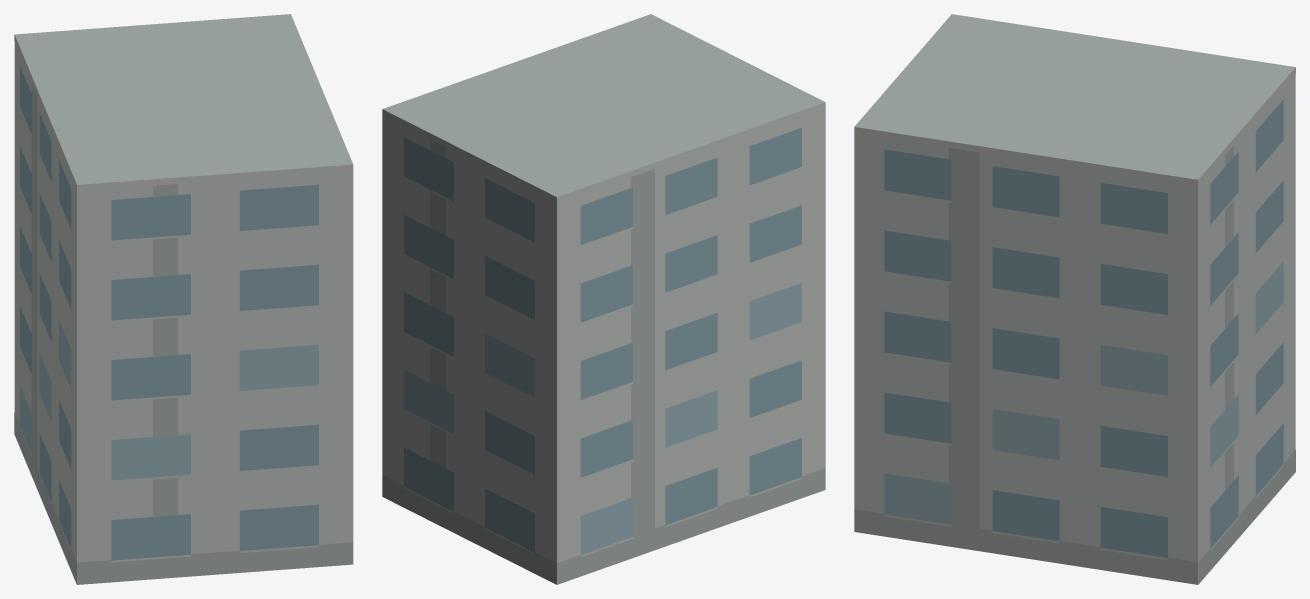
The model's file is residential-6640880c-2f31-4191-9aa5-19bf270faa93.glb.
The picture shows the model from 3 angles, left to right: view 1: azimuth 30°, elevation 25°; view 2: azimuth 150°, elevation 25°; view 3: azimuth 270°, elevation 25°; orthographic projection. The views are drawn at different scales.
Parts seen in each view (by area): view 1: residential-6640880c-2f31-4191-9aa5-19bf270faa93.tmp; view 2: residential-6640880c-2f31-4191-9aa5-19bf270faa93.tmp; view 3: residential-6640880c-2f31-4191-9aa5-19bf270faa93.tmp.
Boxes of the visible parts, x1=… form: residential-6640880c-2f31-4191-9aa5-19bf270faa93.tmp: x1=14, y1=14, x2=353, y2=584; residential-6640880c-2f31-4191-9aa5-19bf270faa93.tmp: x1=382, y1=14, x2=825, y2=584; residential-6640880c-2f31-4191-9aa5-19bf270faa93.tmp: x1=854, y1=14, x2=1295, y2=584.
Bounding box in the file's own units: 13.4 × 15.25 × 15.07.
